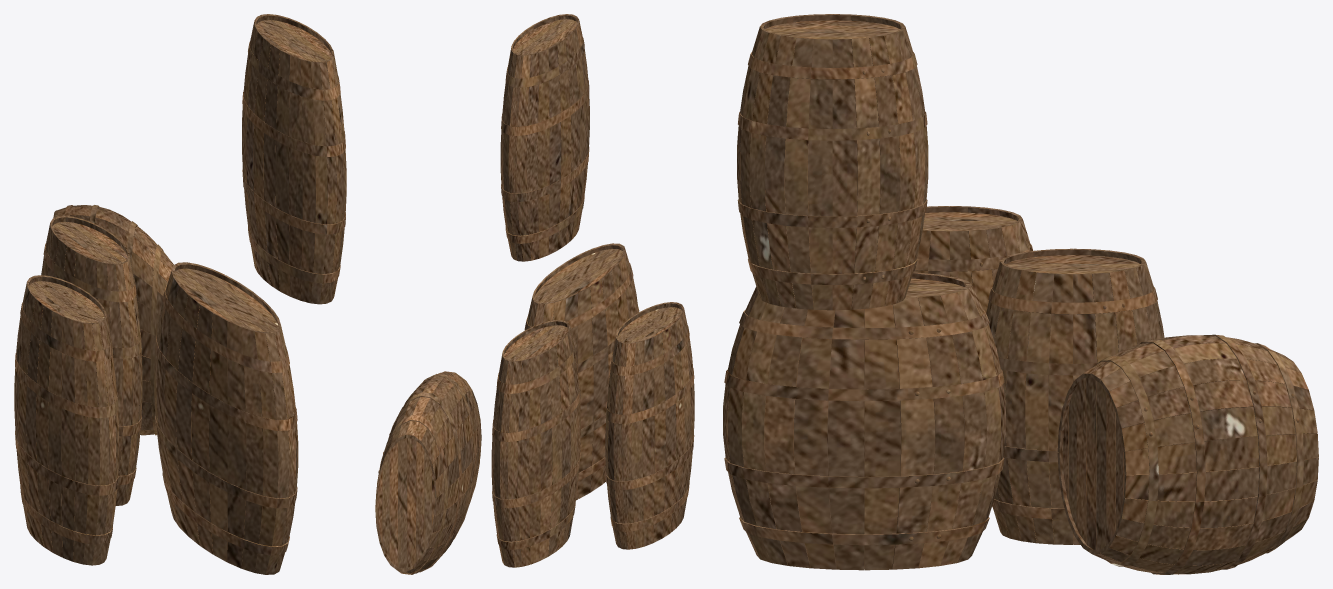
File: barrel.obj
3 views of the same model, side by side, from view 1: azimuth 30°, elevation 25°; view 2: azimuth 150°, elevation 25°; view 3: azimuth 270°, elevation 25° (orthographic). The views are drawn at different scales.
Visible parts, largest first — view 1: wooden_barrel003; view 2: wooden_barrel003; view 3: wooden_barrel003.
Boxes of the visible parts, bbox=[...] form: wooden_barrel003: bbox=[14, 14, 346, 574]; wooden_barrel003: bbox=[375, 14, 694, 574]; wooden_barrel003: bbox=[723, 14, 1318, 574].
Size of the model in its own units: 4.17 by 8.39 by 8.11.
